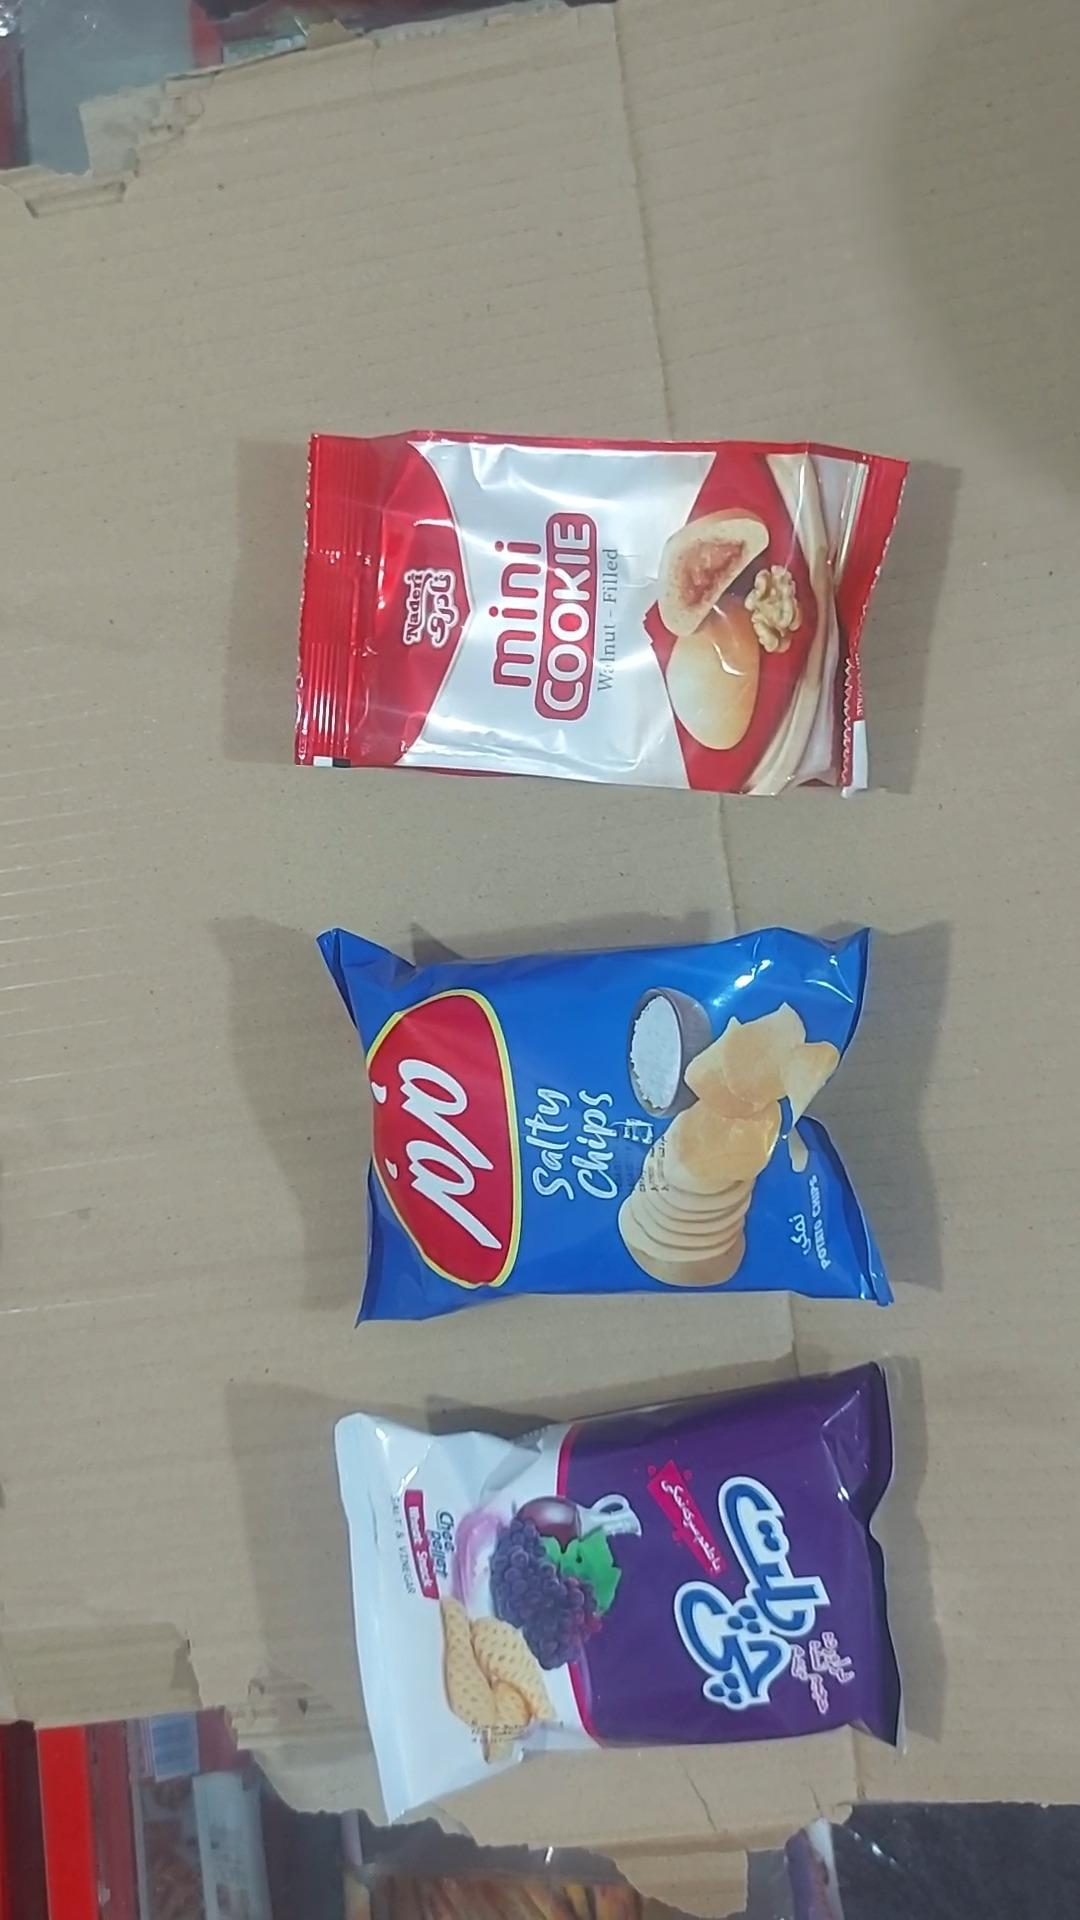Chee pellet vinegar: (334, 1364, 901, 1822)
Maz Maz salty chips: (314, 928, 894, 1327)
Naderi mini cookie: (291, 430, 909, 798)
